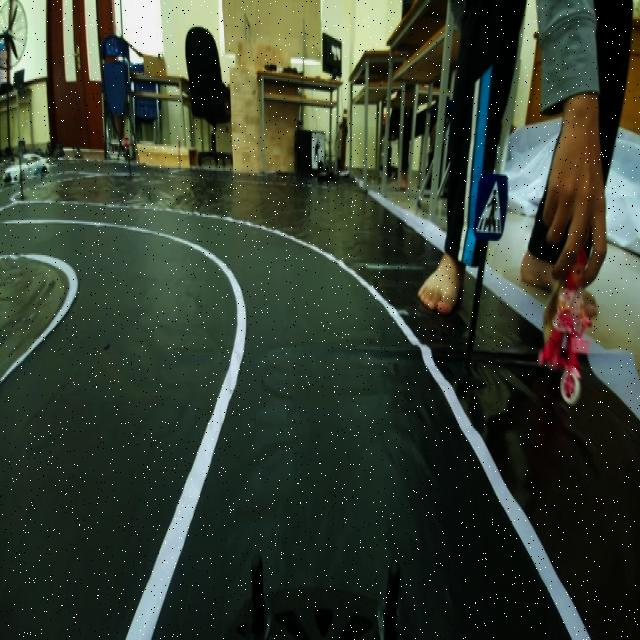crosswalk: (473, 162, 509, 244)
